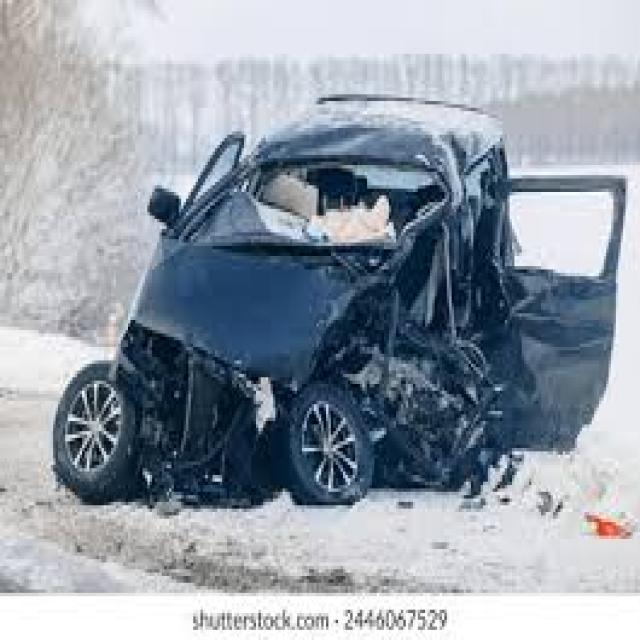Accident: (46, 82, 626, 511)
